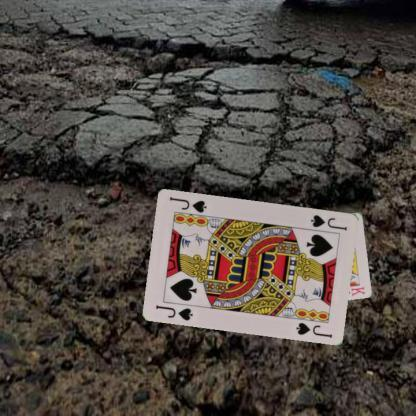Js: (153, 301, 195, 322), (308, 212, 349, 232)
